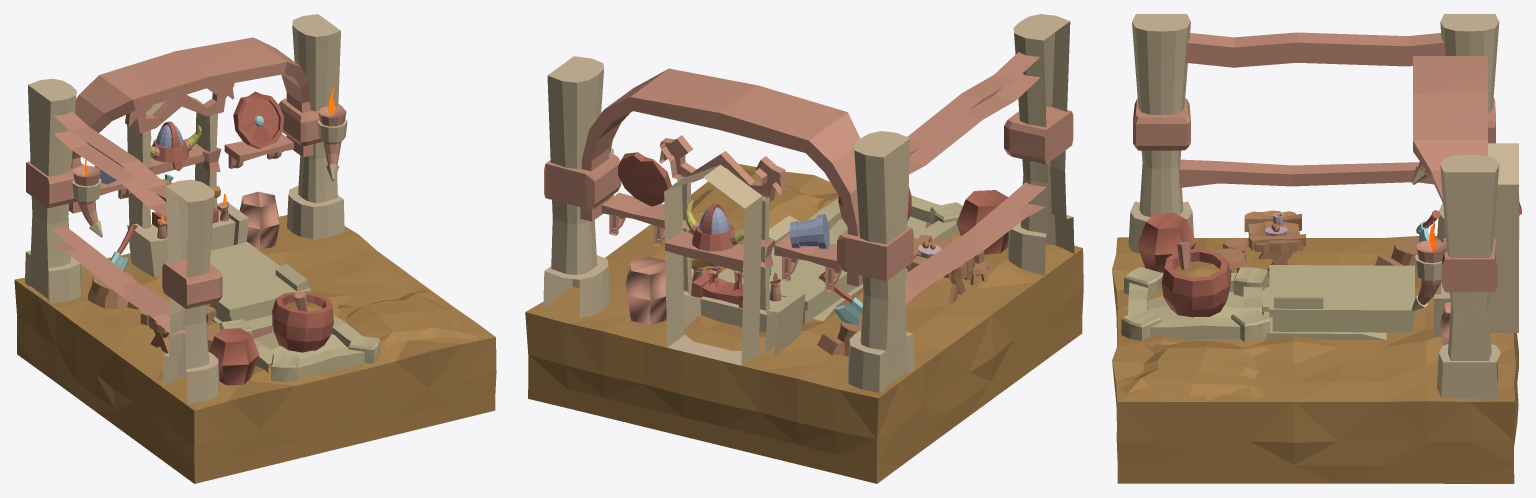
Rendered from land_vikingRoom.fbx.
The picture shows the model from 3 angles, left to right: view 1: azimuth 30°, elevation 25°; view 2: azimuth 150°, elevation 25°; view 3: azimuth 270°, elevation 25°; orthographic projection. The views are drawn at different scales.
Visible parts, largest first — view 1: Cube, poll, poll2, mesh_all1, mesh_all1.008, stone, burrow, mesh_all1.003, burrow2, mesh_all1.001, tablechair, mesh_all1.012; view 2: Cube, poll2, poll, mesh_all1, mesh_all1.008, stone, mesh_all1.003, tablechair, burrow2, mesh_all1.007, mesh_all1.002, mesh_all1.012 (+1 smaller); view 3: Cube, poll2, poll, mesh_all1, stone, mesh_all1.008, burrow, tablechair, burrow2, mesh_all1.001.
Part boxes in pixels (box(x1,y1,x2,y2)): Cube: box(14, 215, 496, 483); poll: box(25, 14, 344, 404); poll2: box(26, 37, 342, 334); mesh_all1: box(72, 83, 379, 381); mesh_all1.008: box(127, 96, 248, 277); stone: box(337, 289, 477, 348); burrow: box(272, 292, 333, 352); mesh_all1.003: box(233, 91, 284, 148); burrow2: box(208, 328, 259, 385); mesh_all1.001: box(87, 271, 139, 309); tablechair: box(140, 304, 220, 353); mesh_all1.012: box(152, 121, 188, 170); Cube: box(525, 164, 1083, 483); poll2: box(544, 52, 1073, 304); poll: box(543, 14, 1074, 392); mesh_all1: box(601, 135, 962, 324); mesh_all1.008: box(664, 164, 805, 365); stone: box(691, 167, 832, 230); mesh_all1.003: box(618, 152, 671, 206); tablechair: box(906, 234, 989, 303); burrow2: box(956, 190, 1008, 254); mesh_all1.007: box(691, 266, 743, 308); mesh_all1.002: box(789, 214, 829, 249); mesh_all1.012: box(692, 203, 736, 251); Cube: box(1112, 236, 1518, 483); poll2: box(1133, 32, 1497, 292); poll: box(1128, 14, 1500, 398); mesh_all1: box(1121, 161, 1519, 345); stone: box(1119, 341, 1270, 398); mesh_all1.008: box(1434, 143, 1518, 337); burrow: box(1161, 248, 1231, 317); tablechair: box(1215, 210, 1305, 277); burrow2: box(1137, 213, 1195, 272); mesh_all1.001: box(1375, 236, 1440, 277).
Size of the model in its own units: 14.54 by 12.48 by 15.06.
